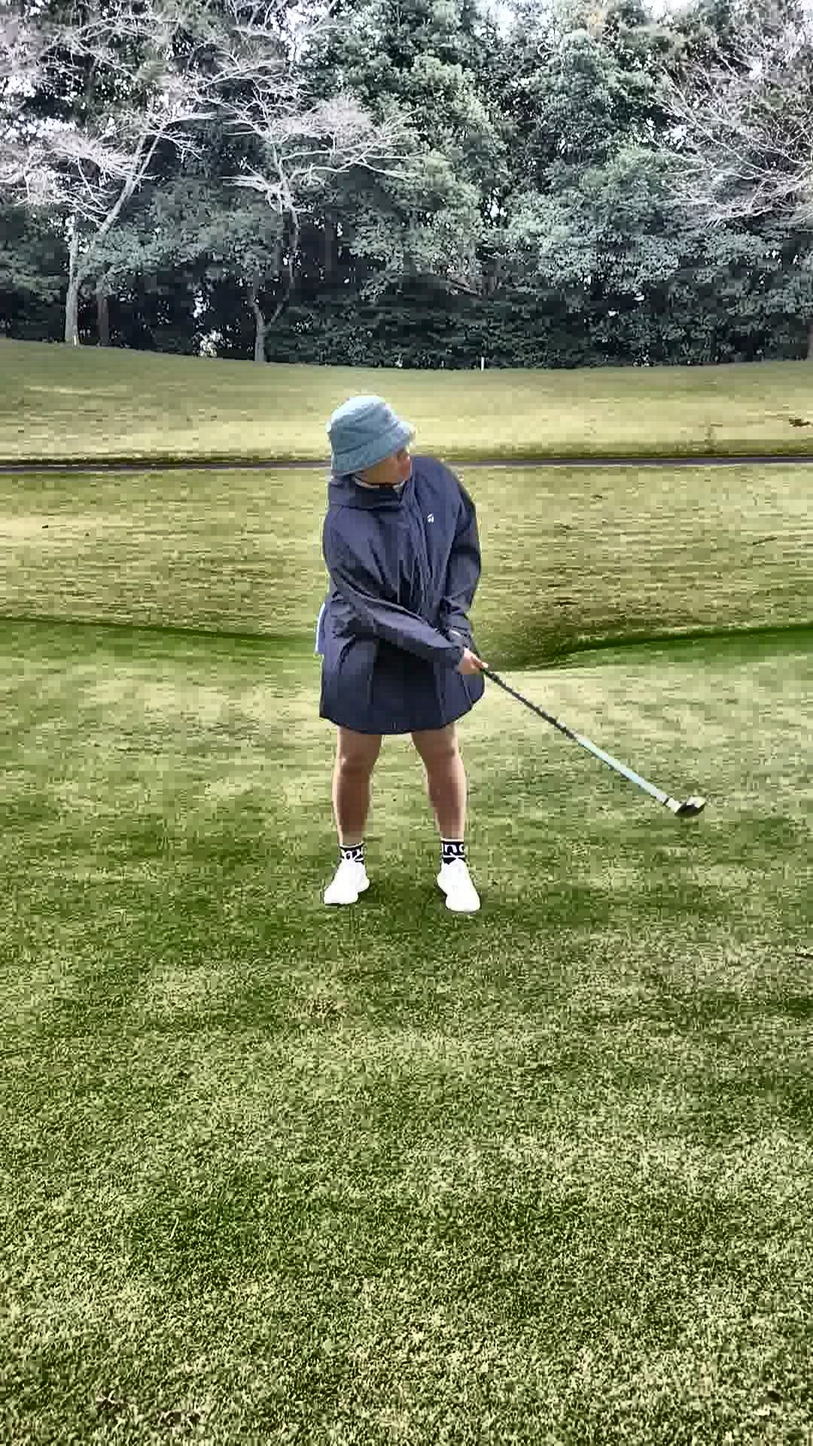clubhead: (613, 738, 770, 931)
